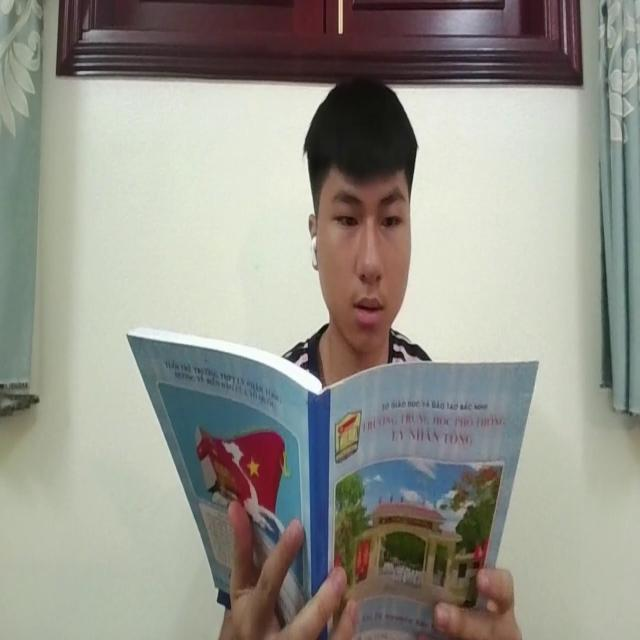book: (121, 308, 527, 640)
student: (266, 70, 450, 381)
